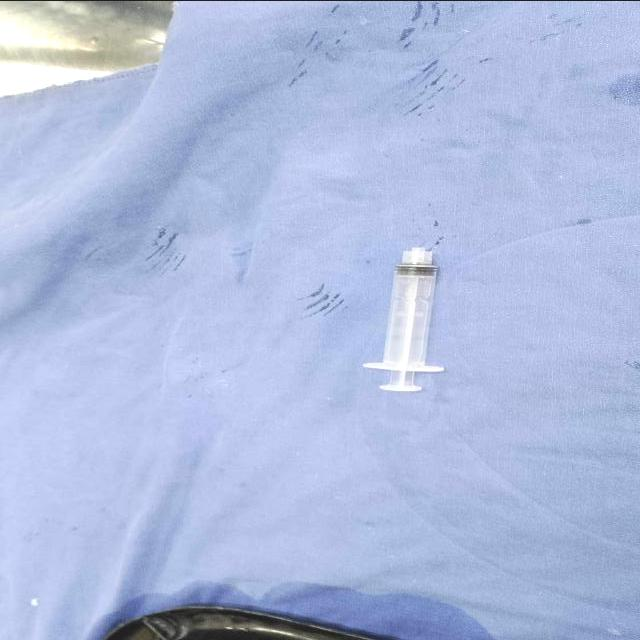Pathological: (1, 2, 637, 637)
Sharps: (361, 244, 445, 391)
